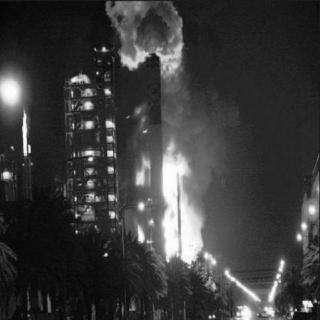Fire: (107, 5, 186, 71)
other: (210, 253, 288, 319)
